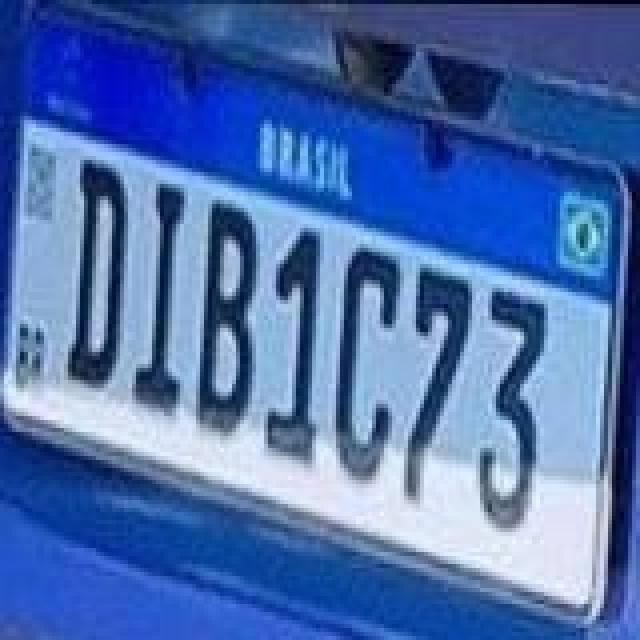1: (266, 226, 326, 466)
3: (476, 282, 548, 530)
7: (404, 264, 476, 508)
B: (194, 198, 262, 438)
C: (332, 240, 404, 484)
D: (64, 156, 128, 388)
I: (132, 178, 188, 414)
